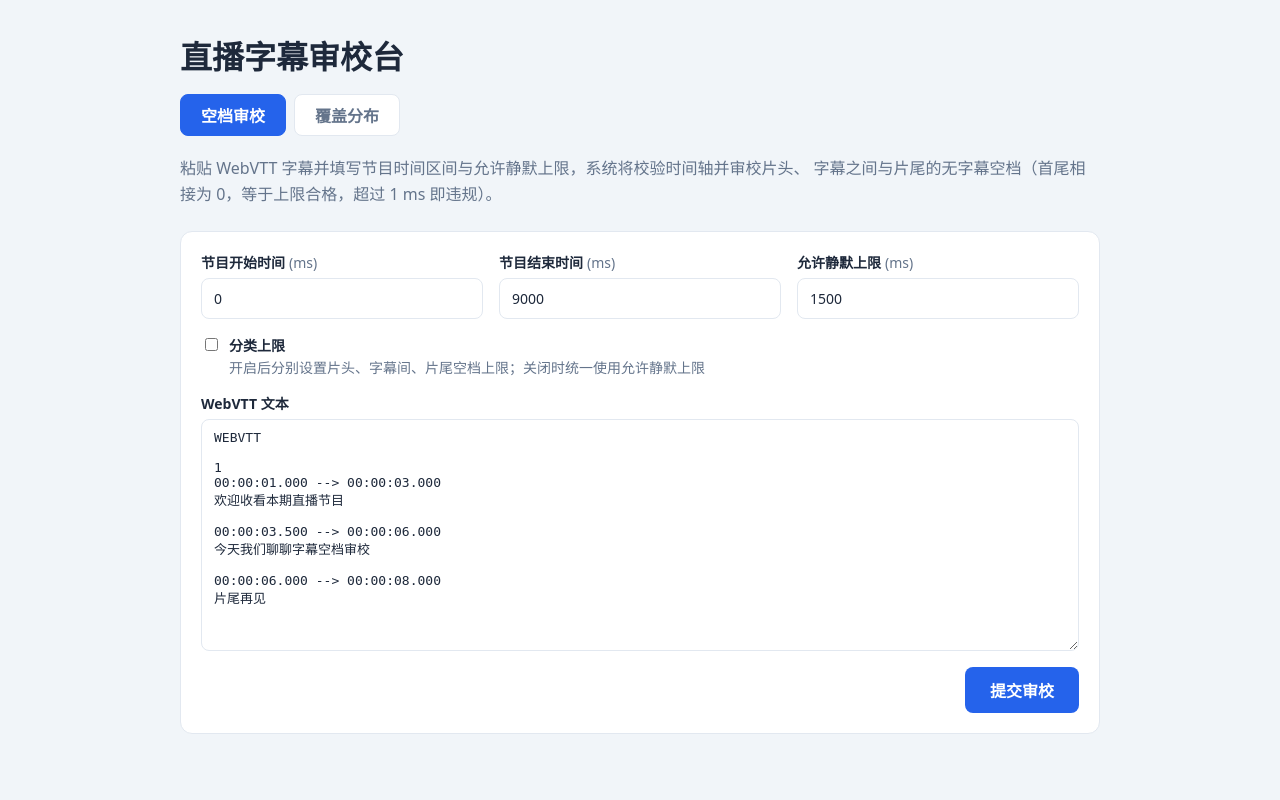
Test: Coverage page states › blocks submission locally when the bucket length is zero
Click the tab with test id "tab-coverage": coordinates (347, 115) [294, 94, 400, 136]
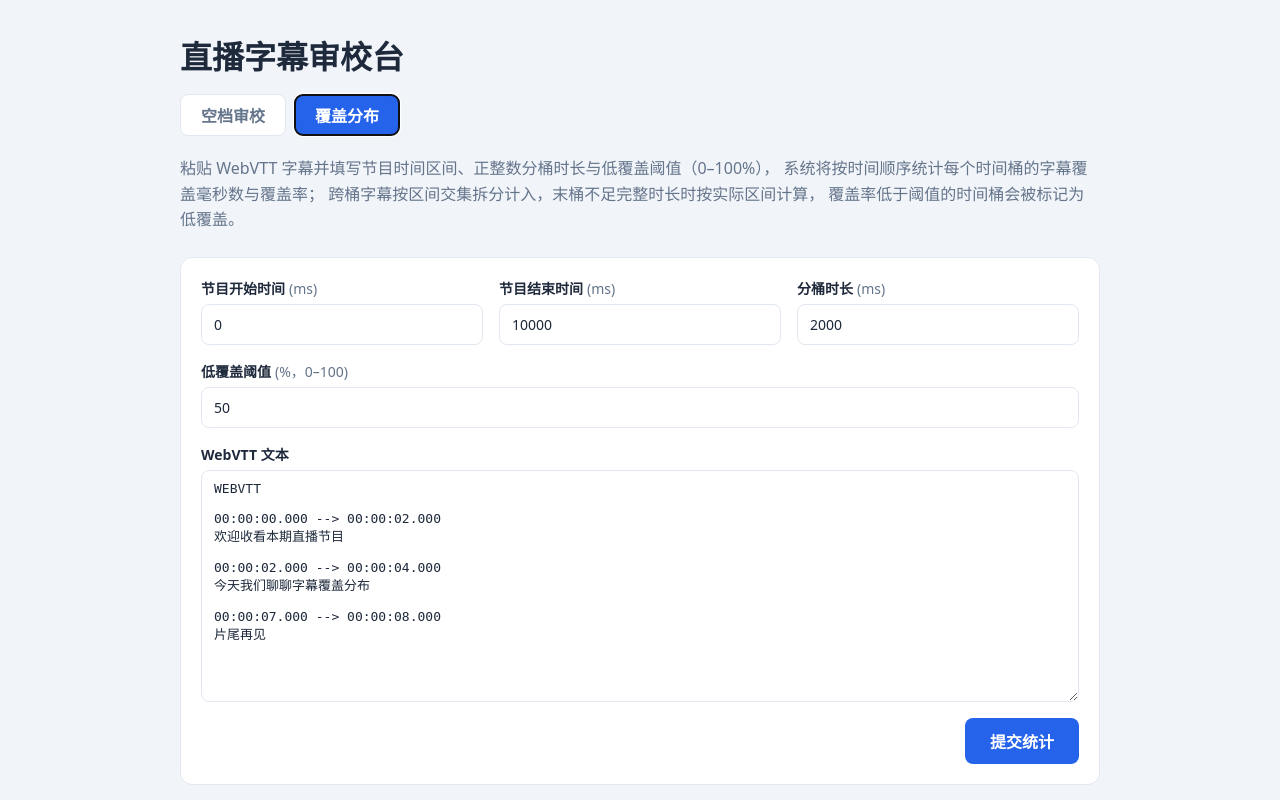
Replace the text in the number field with test id "coverage-input-bucket" with "0": coordinates (938, 324) [797, 304, 1079, 345]
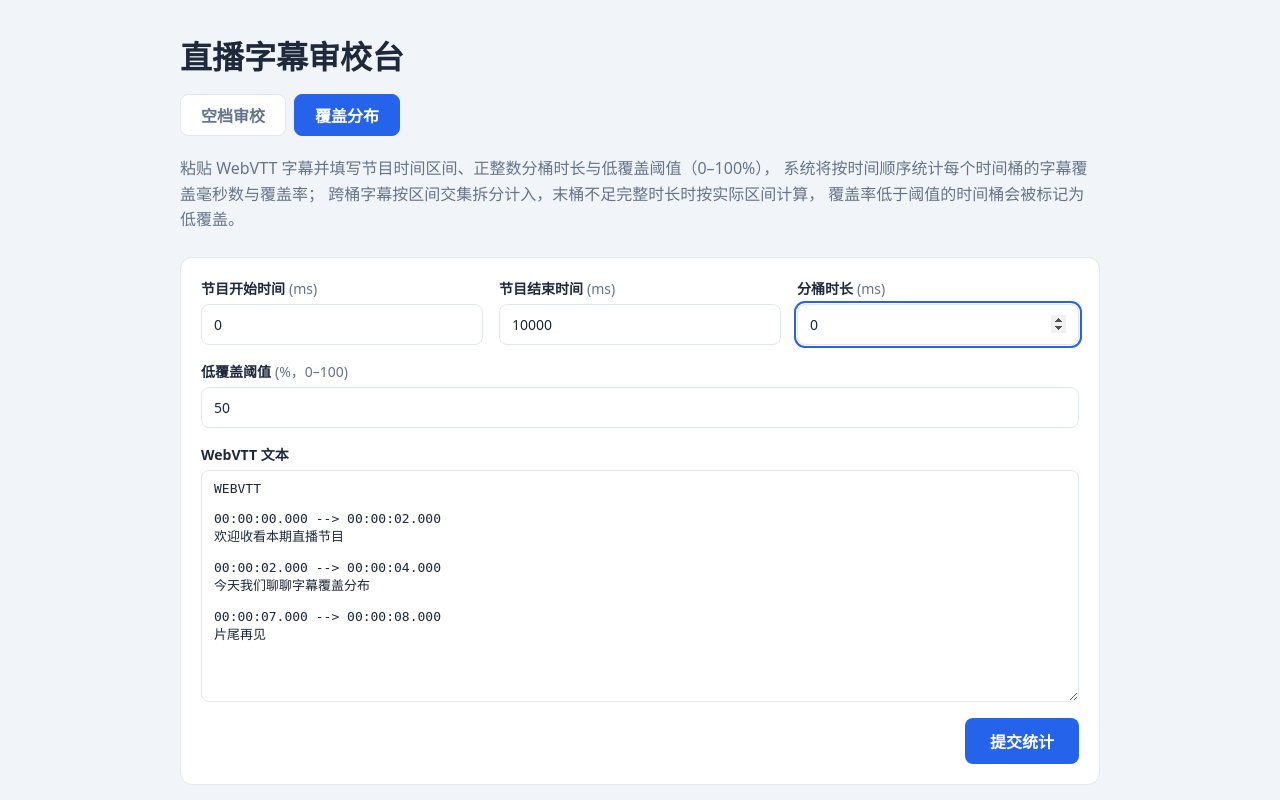
Click the button with test id "coverage-submit": coordinates (1022, 741) [965, 718, 1079, 764]
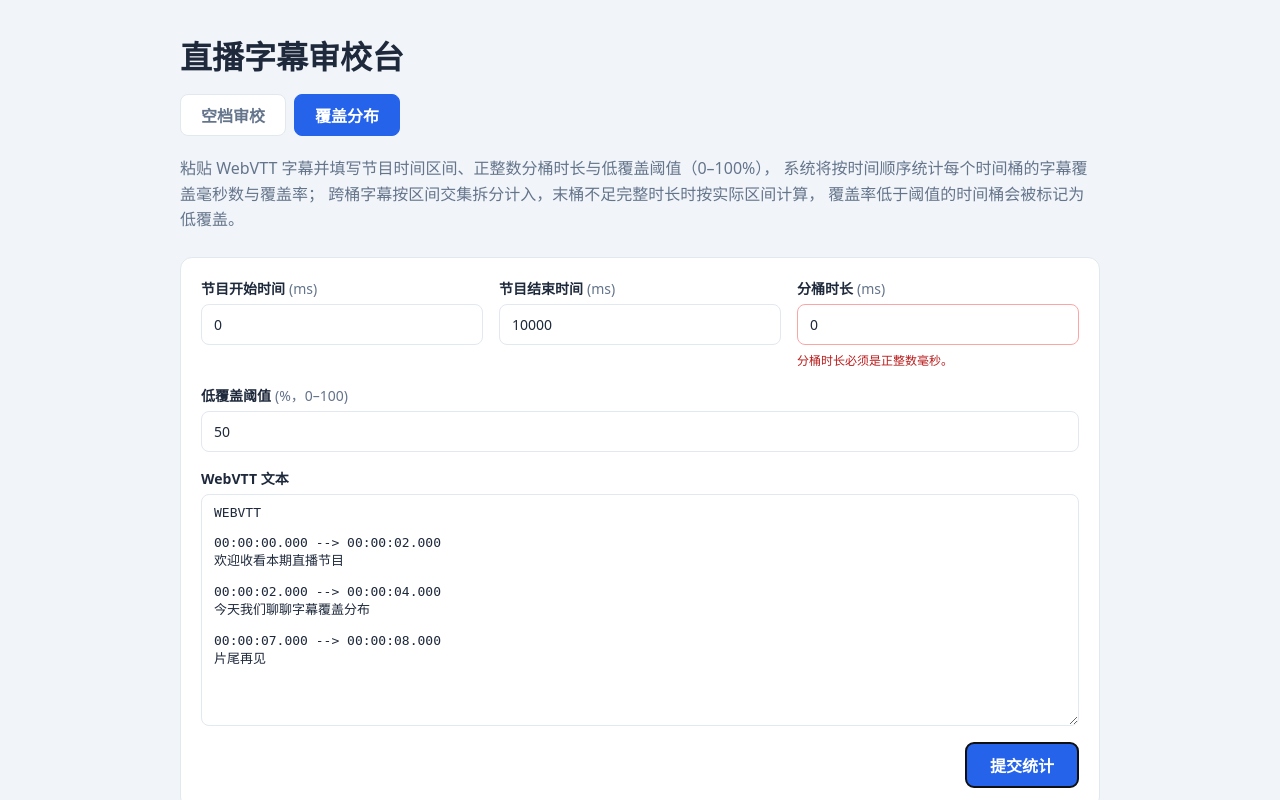
Expected: the text with test id "coverage-input-bucket-error" shows "正整数", [797, 352, 953, 369]
